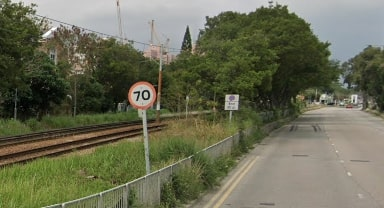Speed Limit: (126, 81, 157, 109)
